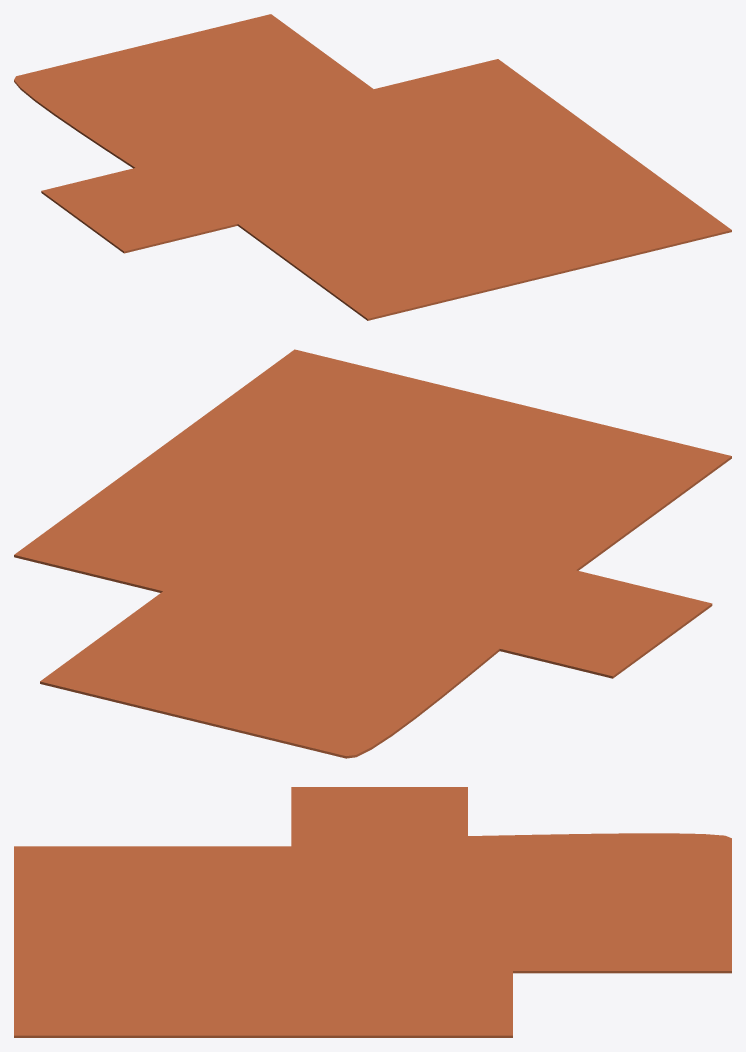
File: homeFloor.FBX
The picture shows the model from 3 angles, top to bottom: view 1: azimuth 30°, elevation 25°; view 2: azimuth 150°, elevation 25°; view 3: azimuth 270°, elevation 25°; orthographic projection. The views are drawn at different scales.
Parts seen in each view (by area): view 1: Line2092; view 2: Line2092; view 3: Line2092.
Part boxes in pixels (x1,y1,x2,y2): Line2092: (14, 14, 731, 320); Line2092: (14, 349, 731, 758); Line2092: (14, 787, 731, 1037).
Size of the model in its own units: 249 by 1 by 304.
